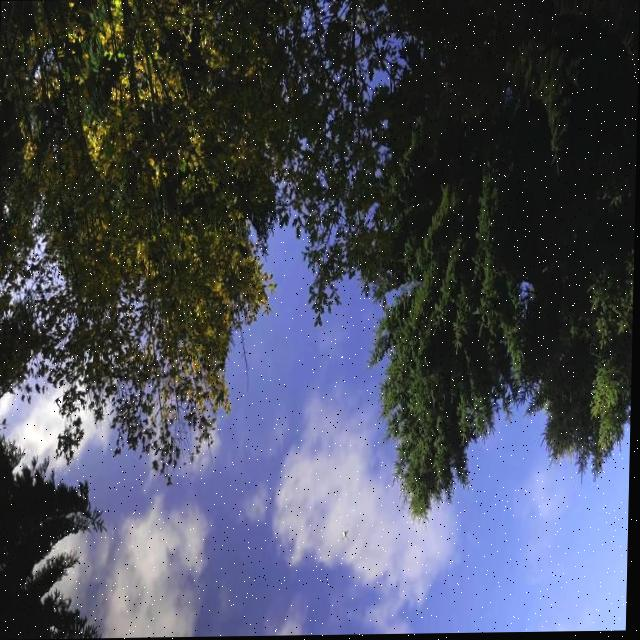drone: (341, 529, 352, 543)
